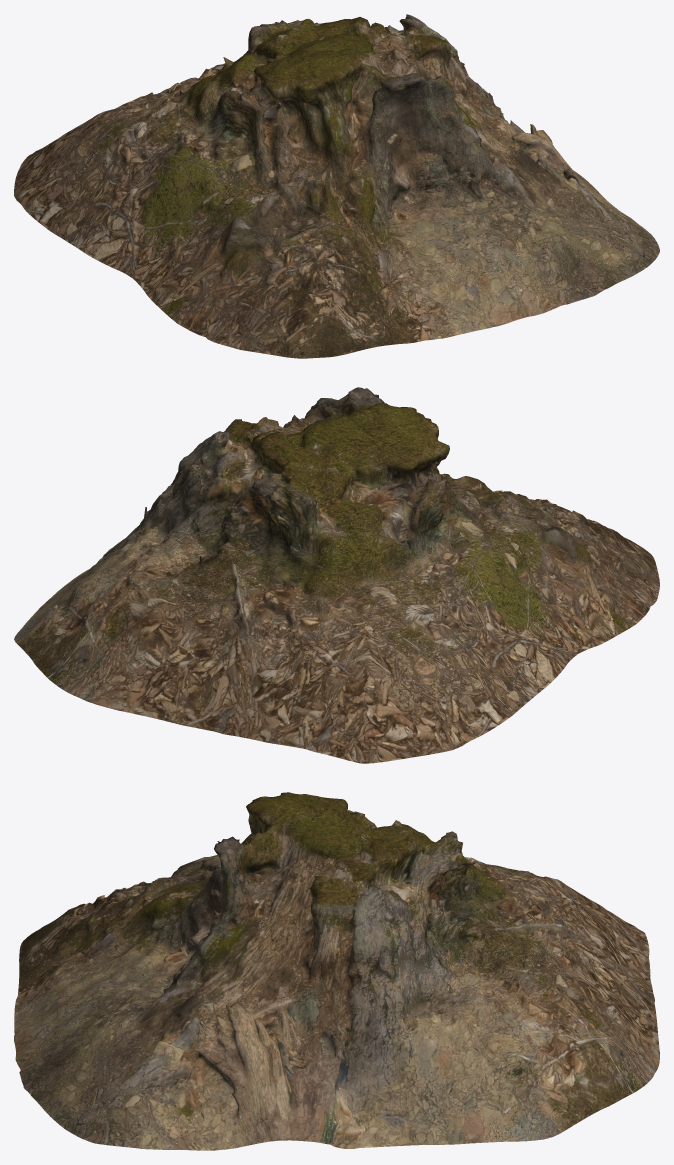
File: tree_stump_01_1k.obj
The picture shows the model from 3 angles, top to bottom: view 1: azimuth 30°, elevation 25°; view 2: azimuth 150°, elevation 25°; view 3: azimuth 270°, elevation 25°; orthographic projection. The views are drawn at different scales.
Parts seen in each view (by area): view 1: tree_stump_01; view 2: tree_stump_01; view 3: tree_stump_01.
Boxes of the visible parts, left/top/right/bottom form: tree_stump_01: left=14, top=14, right=659, bottom=358; tree_stump_01: left=14, top=387, right=659, bottom=763; tree_stump_01: left=14, top=792, right=659, bottom=1150.
Bounding box in the file's own units: 1.43 × 0.5724 × 1.59.
